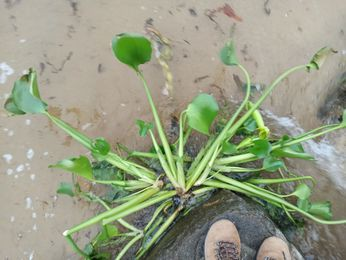water_hyacinth: (7, 33, 346, 255)
